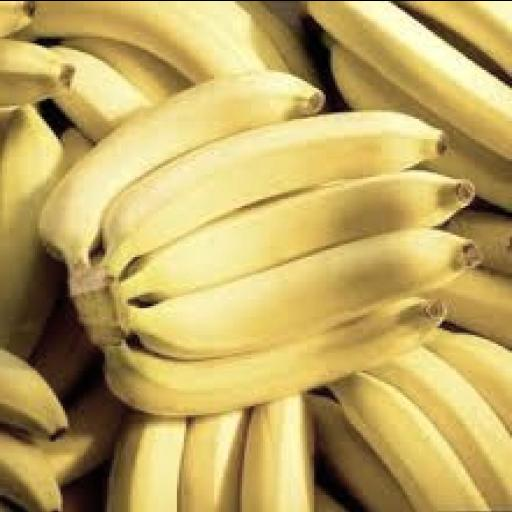banana: (39, 72, 322, 278), (102, 112, 443, 276), (116, 170, 473, 298), (125, 228, 480, 356), (104, 299, 443, 414), (307, 1, 511, 158), (330, 43, 511, 209), (367, 348, 511, 509), (330, 372, 490, 511), (25, 1, 264, 82), (0, 105, 64, 356), (307, 395, 413, 511), (32, 381, 124, 485), (51, 45, 147, 140), (425, 328, 511, 434), (239, 395, 313, 511), (60, 36, 189, 102), (400, 1, 511, 75), (107, 412, 185, 511), (176, 410, 248, 511), (411, 12, 511, 84), (30, 299, 99, 400), (237, 1, 317, 84), (195, 1, 289, 71), (428, 268, 511, 347), (0, 348, 66, 438), (0, 430, 61, 511), (0, 38, 73, 104), (444, 210, 511, 273), (60, 472, 103, 511), (60, 127, 92, 169), (0, 1, 33, 35), (314, 486, 348, 511), (0, 499, 24, 511)
